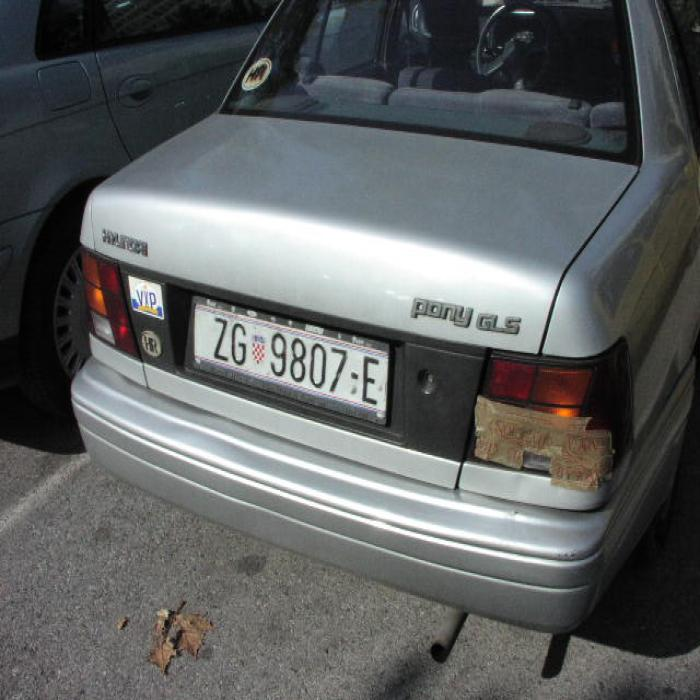number_plate: (195, 305, 385, 410)
